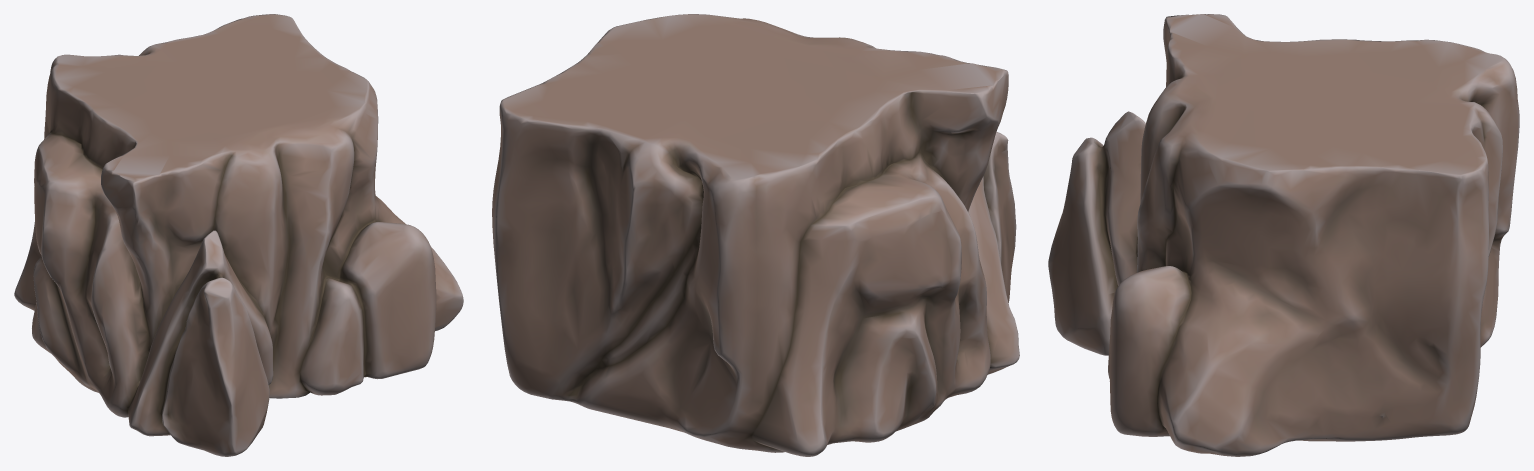
File: SM_floor_rockOLD.fbx
3 views of the same model, side by side, from view 1: azimuth 30°, elevation 25°; view 2: azimuth 150°, elevation 25°; view 3: azimuth 270°, elevation 25° (orthographic). The views are drawn at different scales.
Parts seen in each view (by area): view 1: Merged_PM3D_Cube3D_9; view 2: Merged_PM3D_Cube3D_9; view 3: Merged_PM3D_Cube3D_9.
Boxes of the visible parts, x1,y1,x2,y2 form: Merged_PM3D_Cube3D_9: (14, 14, 463, 456); Merged_PM3D_Cube3D_9: (492, 14, 1019, 456); Merged_PM3D_Cube3D_9: (1048, 14, 1519, 456).
Size of the model in its own units: 150 by 102 by 150.
